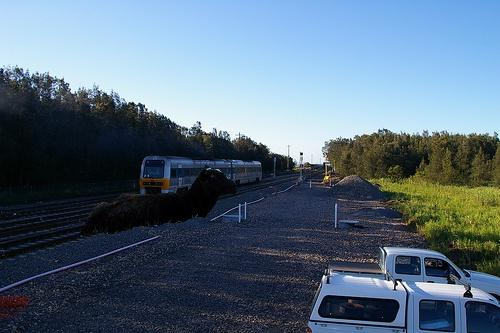tampered: (80, 165, 237, 237)
